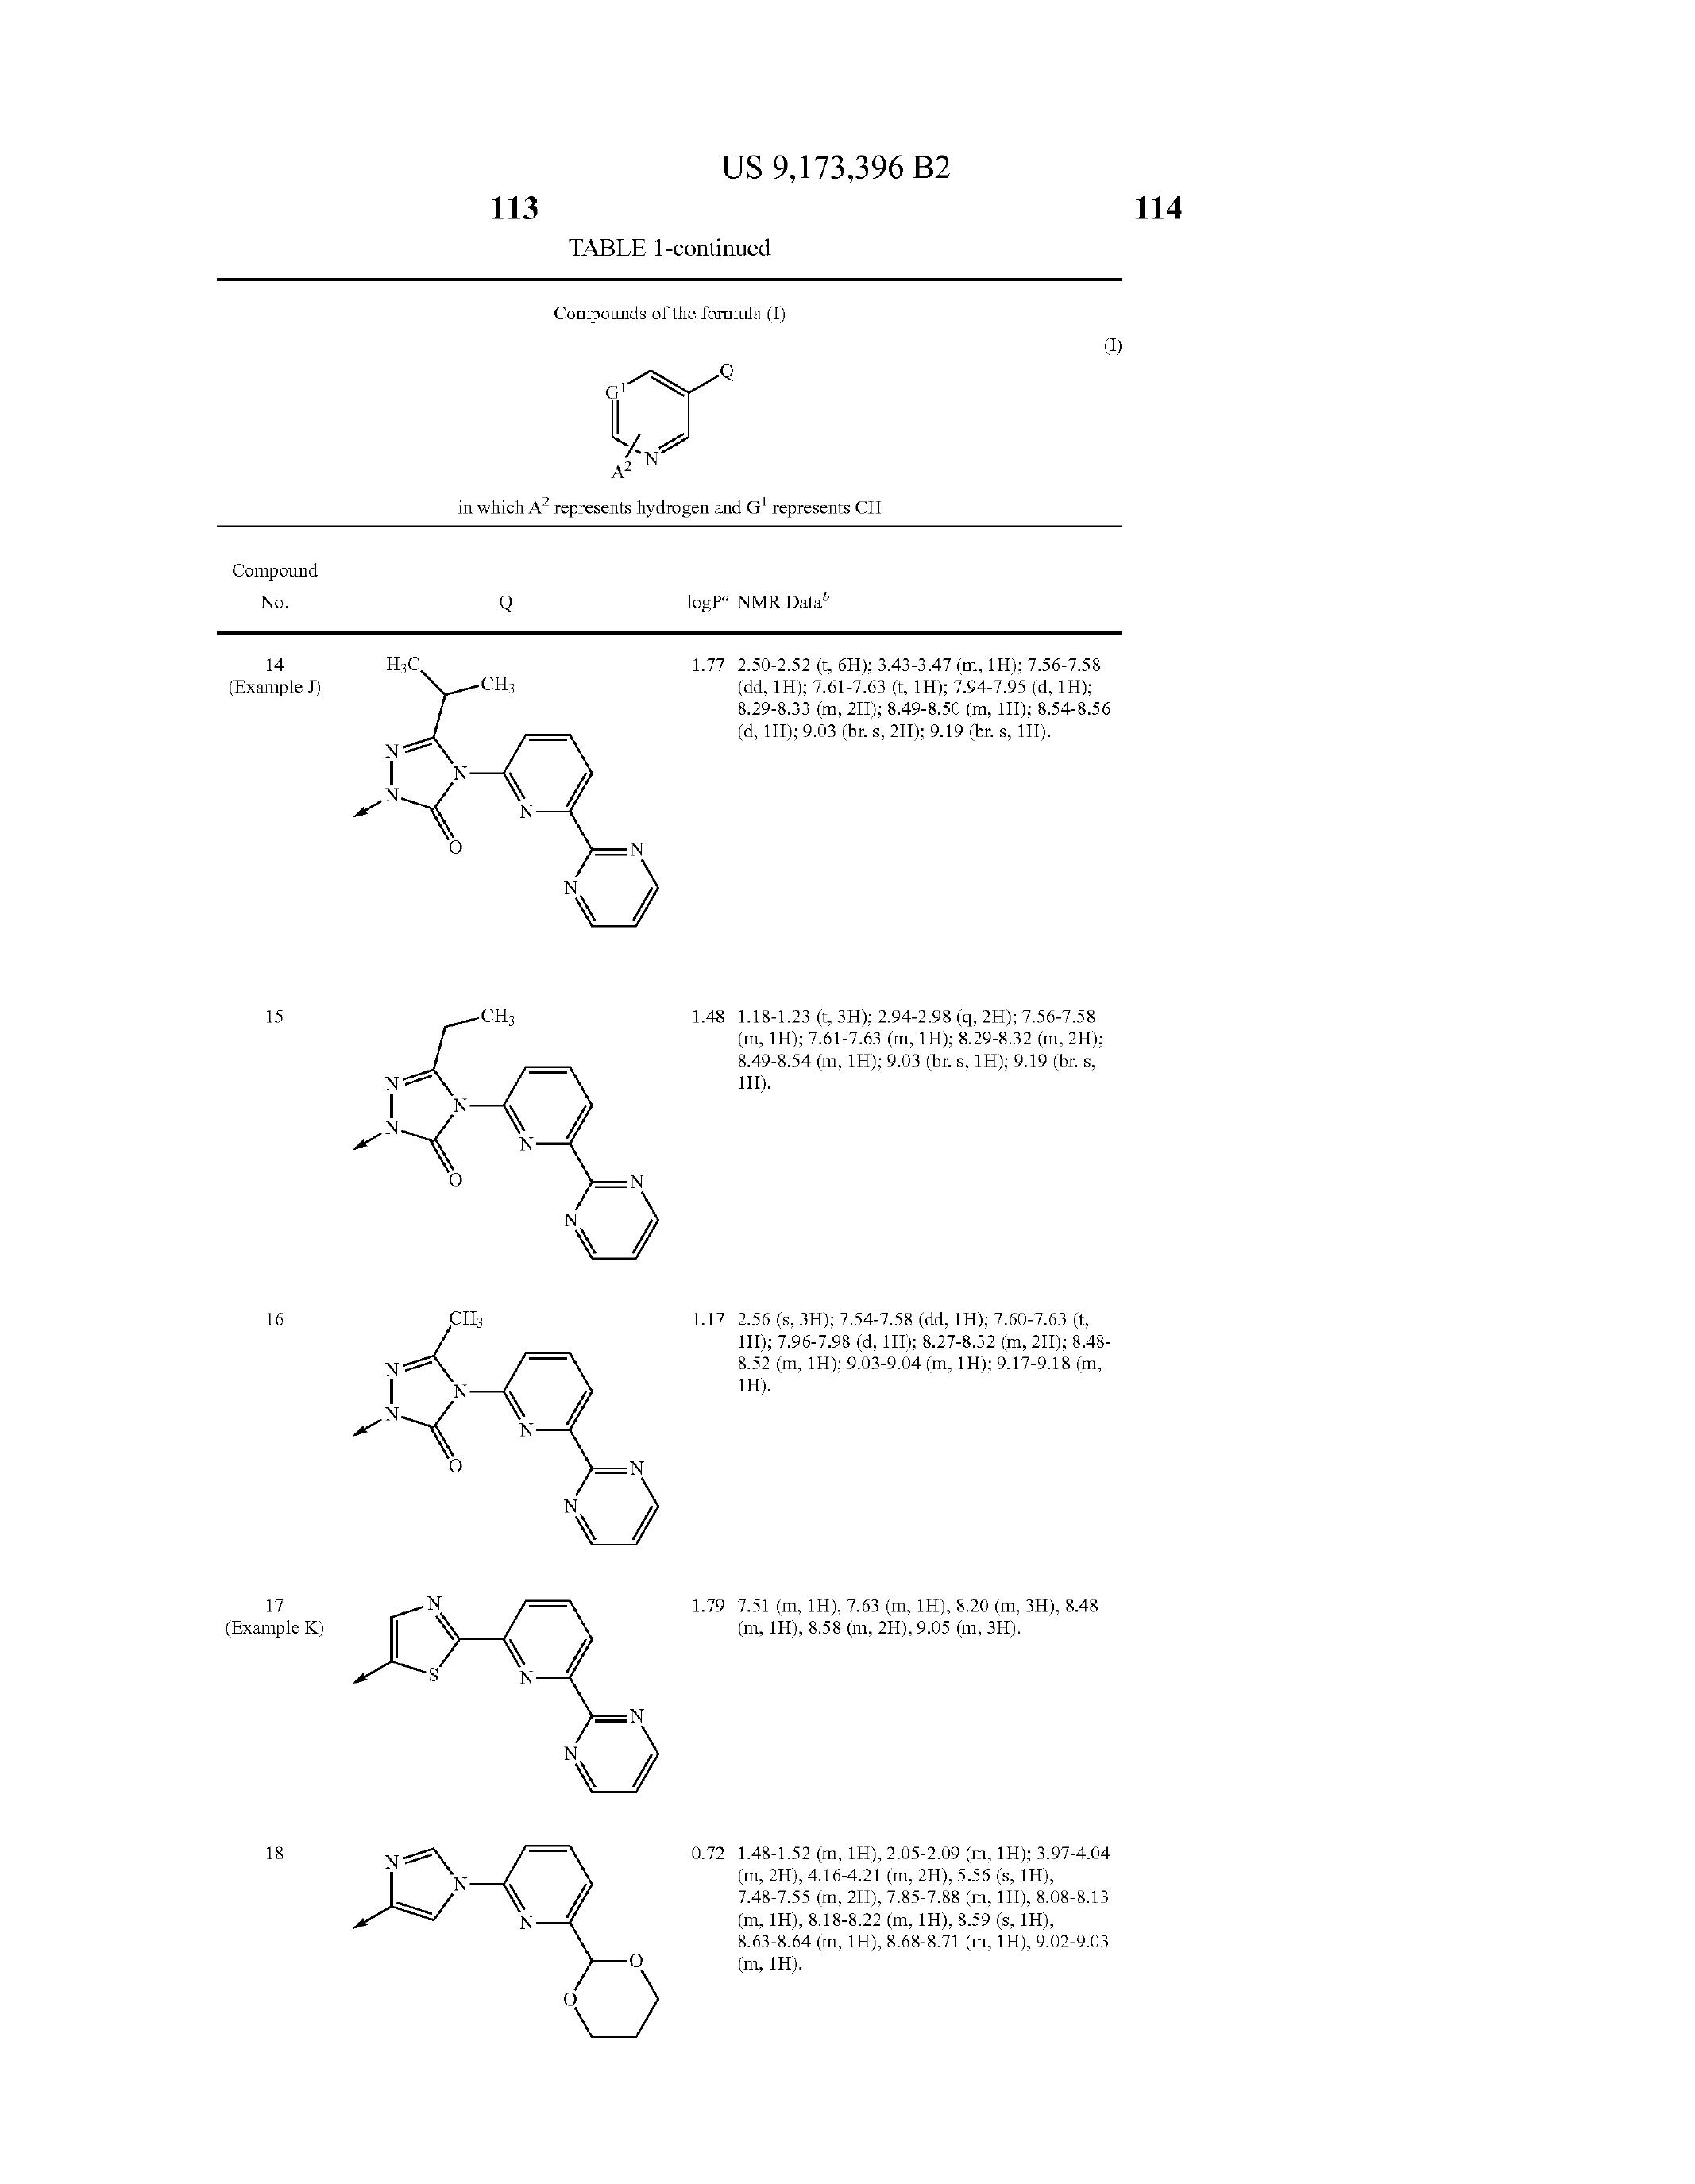relevant-structures: (328, 1826, 702, 2122), (349, 640, 660, 957), (333, 989, 676, 1266), (333, 1287, 697, 1542), (326, 1567, 679, 1814)
